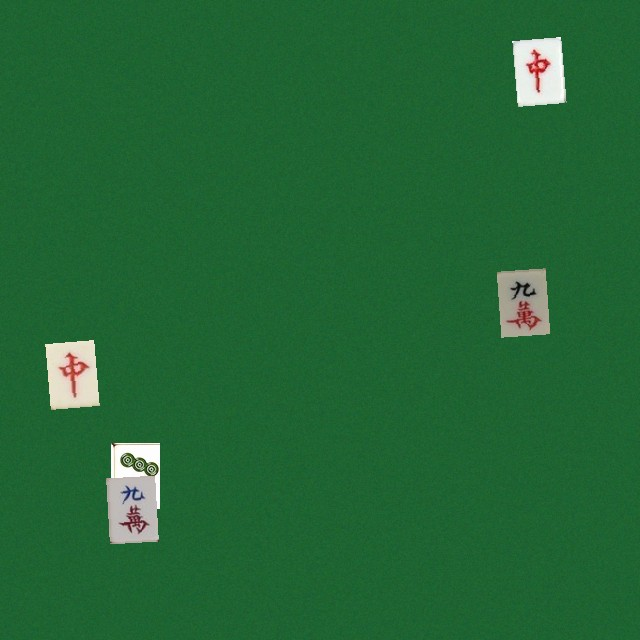tile: (110, 442, 159, 508), (512, 37, 561, 103), (496, 268, 545, 334), (106, 475, 155, 541), (45, 340, 94, 406)
